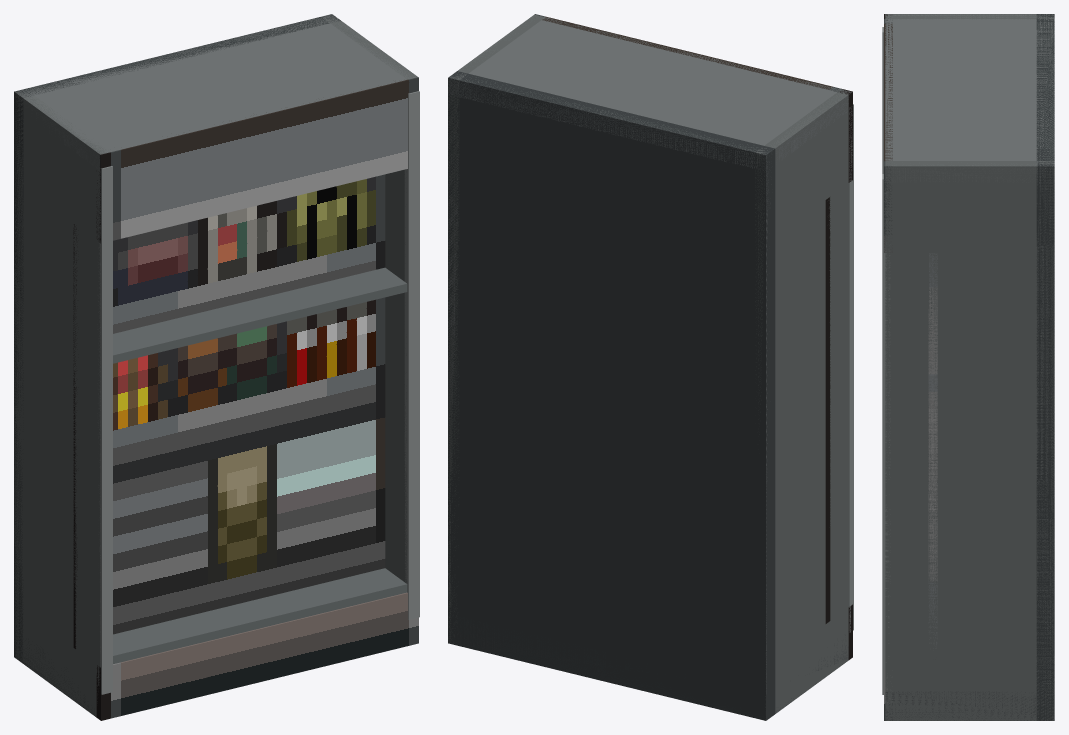
File: CMU3DReduxAU14LACNequipmentvendor.glb
3 views of the same model, side by side, from view 1: azimuth 30°, elevation 25°; view 2: azimuth 150°, elevation 25°; view 3: azimuth 270°, elevation 25° (orthographic).
Visible parts, largest first — view 1: source cabinet panel 2, left casing, source cabinet panel 0, closed roof, source cabinet panel 1, source cabinet panel 3, front upright (×2), right casing, shelf tray 2, shelf tray 1, closed cabinet back; view 2: closed cabinet back, left casing, closed roof, right casing, front upright, source cabinet panel 0, source cabinet panel 2, closed plinth and underside, source cabinet panel 1; view 3: right casing, closed roof, closed cabinet back, source cabinet panel 2, front upright, closed plinth and underside, source cabinet panel 0, source cabinet panel 1, left casing.
Boxes of the visible parts, left/top/right/bottom form: source cabinet panel 2: left=73, top=297, right=385, bottom=648; left casing: left=14, top=90, right=108, bottom=717; source cabinet panel 0: left=96, top=77, right=418, bottom=243; closed roof: left=16, top=14, right=417, bottom=170; source cabinet panel 1: left=73, top=174, right=385, bottom=347; source cabinet panel 3: left=96, top=592, right=418, bottom=720; front upright (×2): left=97, top=91, right=419, bottom=694; right casing: left=322, top=14, right=417, bottom=582; shelf tray 2: left=113, top=568, right=407, bottom=664; shelf tray 1: left=113, top=267, right=407, bottom=363; closed cabinet back: left=14, top=14, right=340, bottom=663; closed cabinet back: left=448, top=71, right=775, bottom=720; left casing: left=755, top=89, right=851, bottom=719; closed roof: left=448, top=15, right=849, bottom=171; right casing: left=448, top=14, right=545, bottom=643; front upright: left=849, top=104, right=853, bottom=632; source cabinet panel 0: left=532, top=14, right=852, bottom=182; source cabinet panel 2: left=825, top=321, right=830, bottom=623; closed plinth and underside: left=448, top=617, right=848, bottom=720; source cabinet panel 1: left=825, top=197, right=830, bottom=323; right casing: left=885, top=161, right=1054, bottom=720; closed roof: left=885, top=14, right=1054, bottom=182; closed cabinet back: left=1036, top=14, right=1054, bottom=720; source cabinet panel 2: left=928, top=374, right=937, bottom=659; front upright: left=882, top=174, right=890, bottom=694; closed plinth and underside: left=885, top=691, right=1054, bottom=720; source cabinet panel 0: left=884, top=14, right=892, bottom=252; source cabinet panel 1: left=928, top=253, right=937, bottom=374; left casing: left=885, top=14, right=1054, bottom=19.
Bounding box in the file's own units: 1 × 1.7 × 0.478.
Materials: 10 (4 with a texture image).
